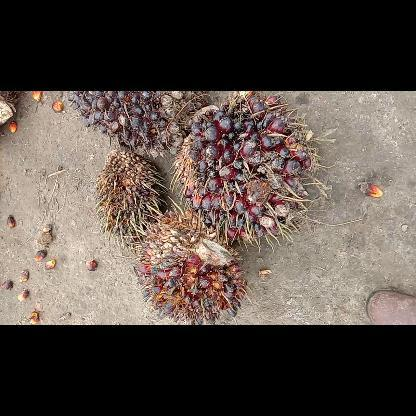Kurang masak: (174, 91, 318, 239), (69, 94, 200, 152)
TBS abnormal: (98, 148, 168, 246)
TBS masak: (136, 210, 246, 324)
